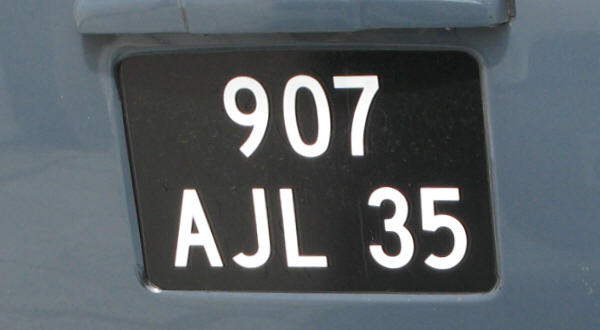license_plate: (117, 48, 498, 296)
